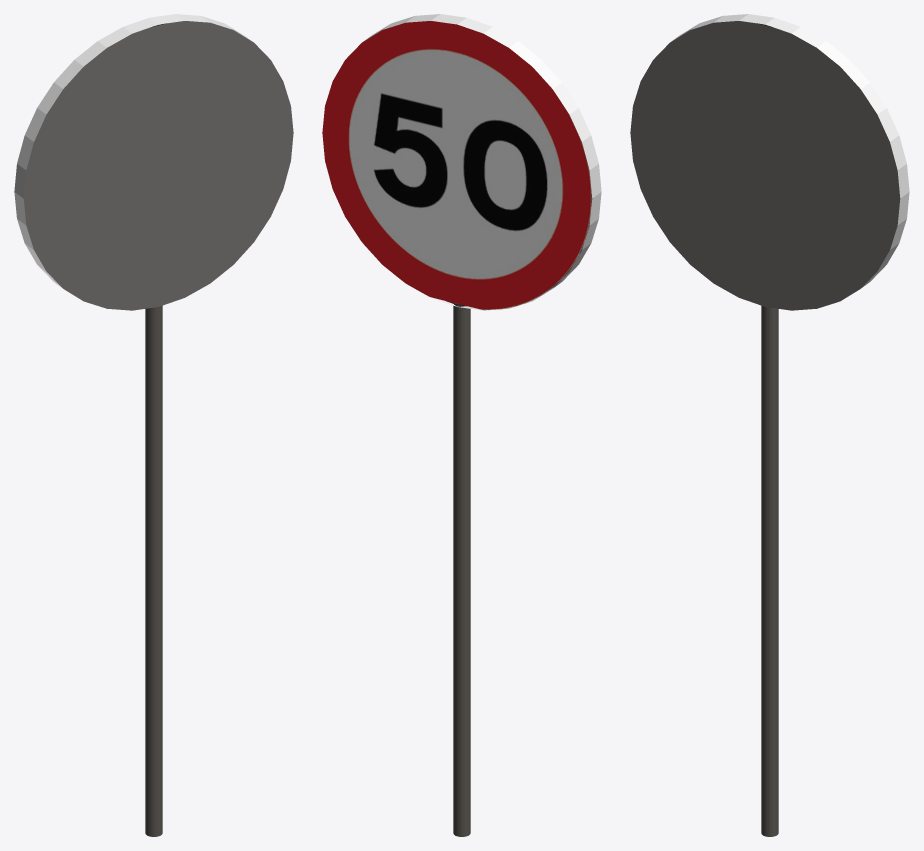
File: Sinal50.fbx
3 renders of one model, left to right at view 1: azimuth 30°, elevation 25°; view 2: azimuth 150°, elevation 25°; view 3: azimuth 330°, elevation 25°, orthographic.
Visible parts, largest first — view 1: Cylinder.001, Cylinder; view 2: Cylinder.001, Cylinder; view 3: Cylinder.001, Cylinder.
Boxes of the visible parts, <box> form: Cylinder.001: <box>14,14,293,310</box>; Cylinder: <box>145,305,162,836</box>; Cylinder.001: <box>322,14,601,310</box>; Cylinder: <box>453,303,470,836</box>; Cylinder.001: <box>630,14,909,310</box>; Cylinder: <box>761,305,778,836</box>.
Bounding box in the file's own units: 200 × 575 × 12.
Materials: 2 (1 with a texture image).
